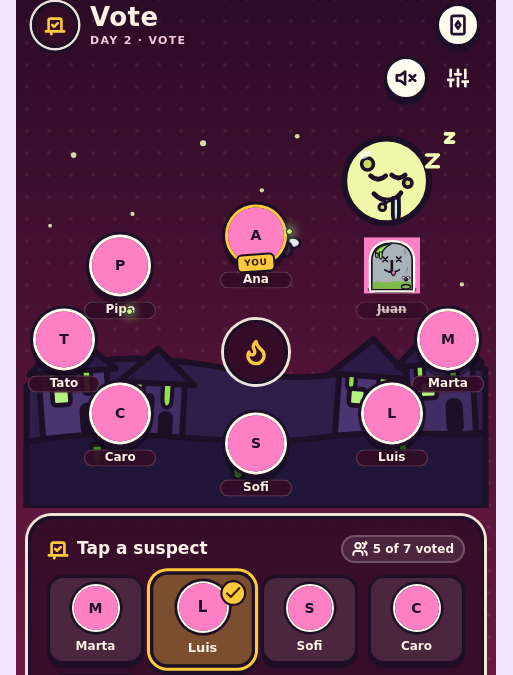
VoteDock › shows a rejected vote
The width and height of the screenshot is (513, 675).
Step 1. Click the button "M Marta" → (96, 620), box [47, 575, 144, 664]
(page scrolled)
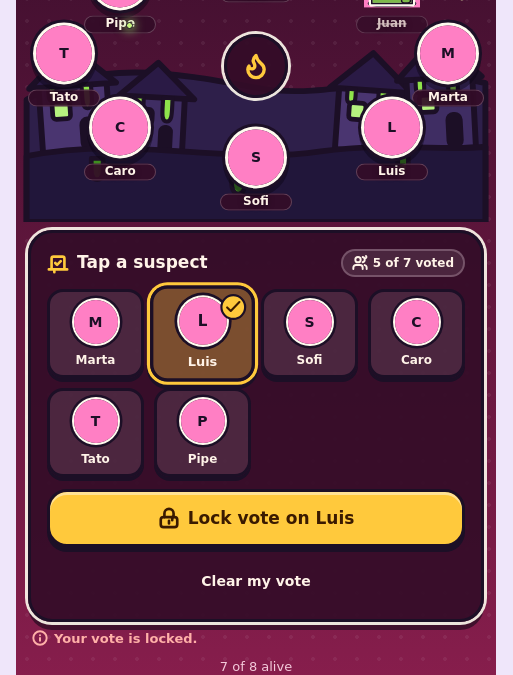
Expected: the message with class "err" reads "Your vote is locked.", [54, 630, 198, 646]
